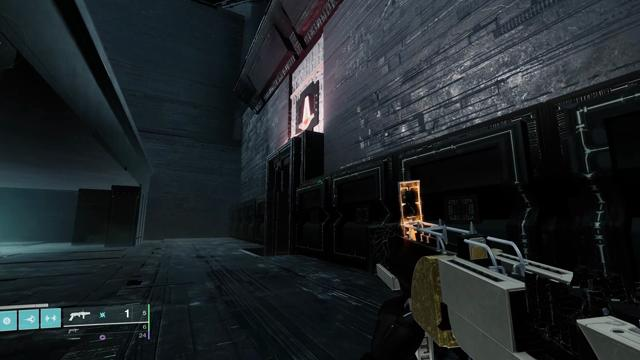enter: (298, 93, 315, 130)
